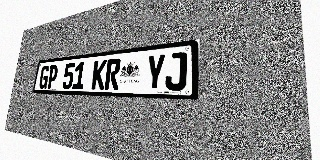1: (72, 62, 86, 89)
5: (62, 63, 75, 89)
G: (38, 65, 50, 89)
J: (164, 51, 187, 91)
K: (91, 60, 107, 90)
P: (46, 64, 59, 89)
R: (104, 58, 121, 90)
Y: (145, 54, 166, 90)
